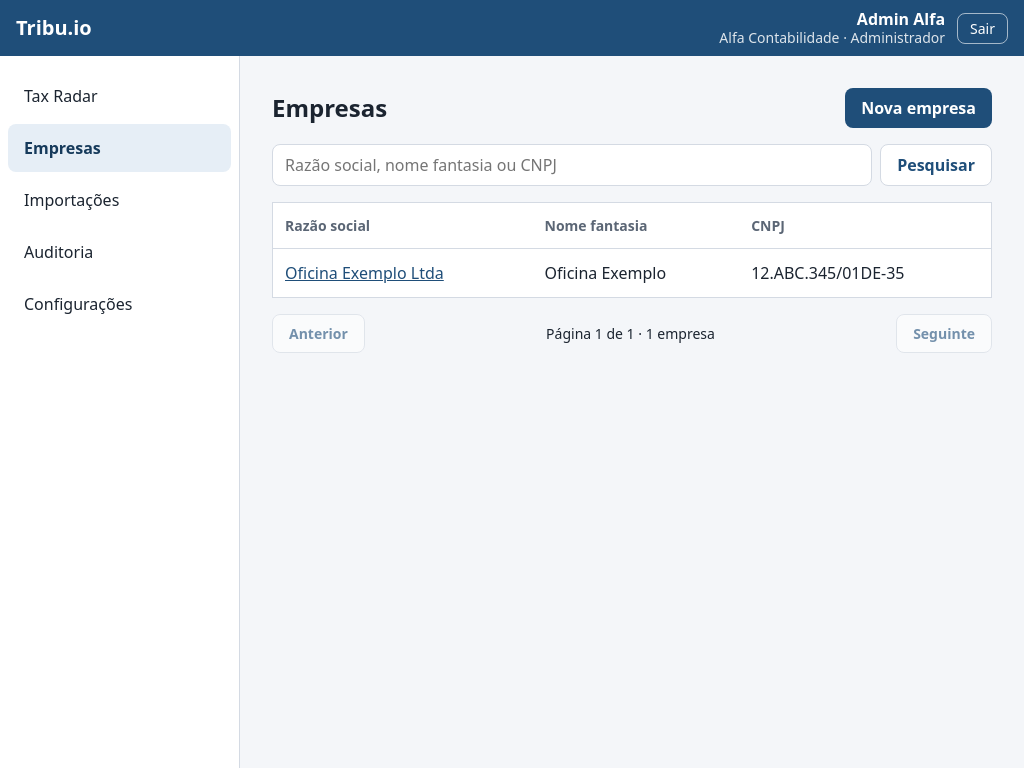
it: empresas › limpa o cache das empresas ao sair (S24)
This screenshot has width=1024, height=768.
Expected: the link "Oficina Exemplo Ltda" is shown, x1=285 y1=262 x2=444 y2=284
What coordinates should you click on to do the following:
click the button "Sair"
I would click on:
 (983, 28)
Its box is x1=957 y1=12 x2=1008 y2=44.
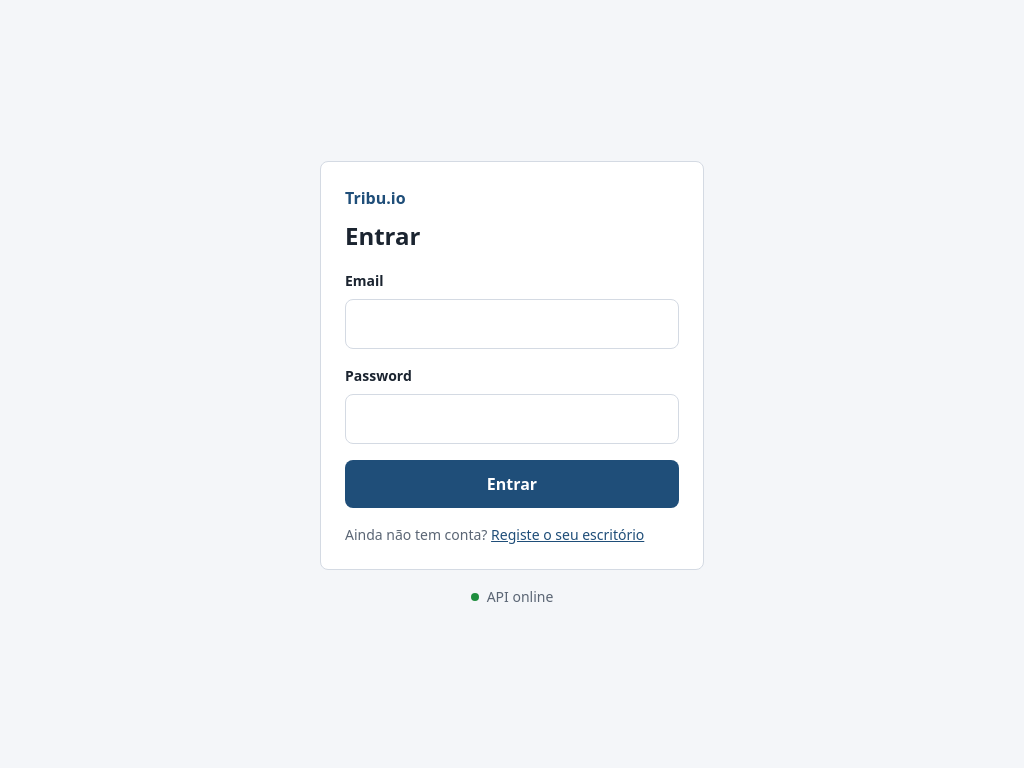
Expected: the heading "Entrar" is shown, x1=345 y1=219 x2=420 y2=252
